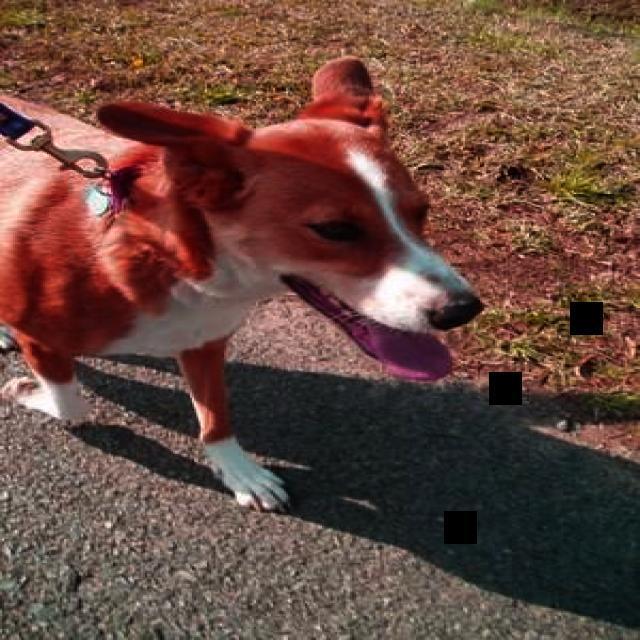adult_dog: (1, 53, 483, 522)
